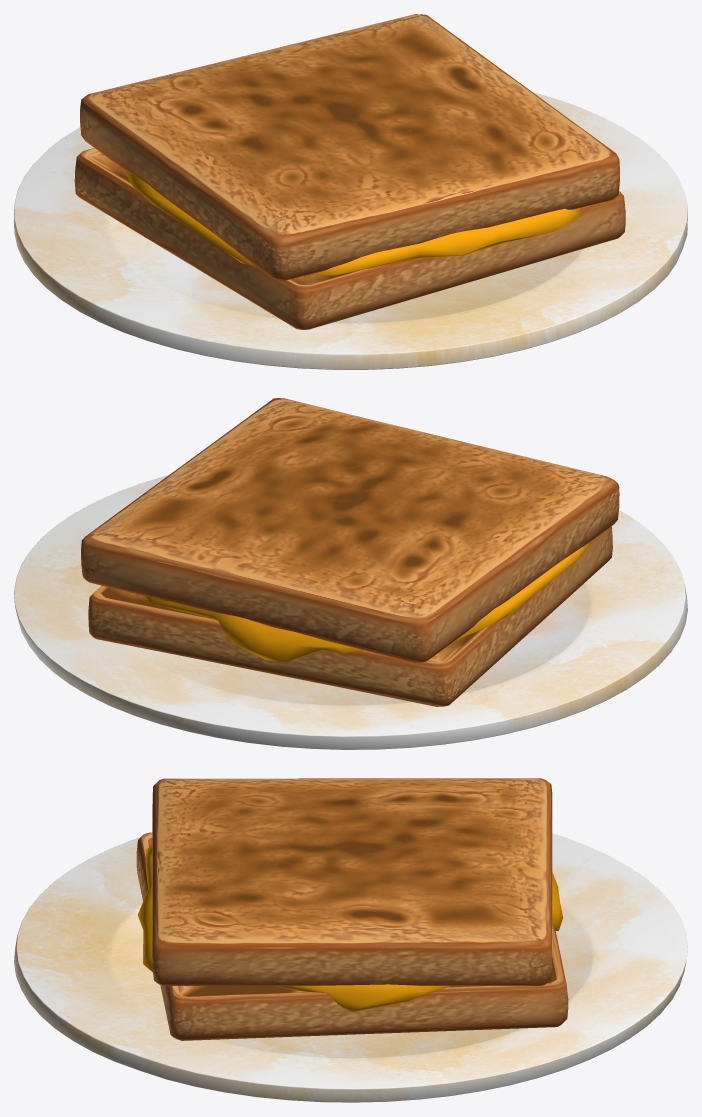
File: toast.glb
The picture shows the model from 3 angles, top to bottom: view 1: azimuth 30°, elevation 25°; view 2: azimuth 150°, elevation 25°; view 3: azimuth 270°, elevation 25°; orthographic projection.
Parts seen in each view (by area): view 1: low_BreadTop, low_Dish, low_BreadBottom, low_Cheese; view 2: low_BreadTop, low_Dish, low_BreadBottom, low_Cheese; view 3: low_BreadTop, low_Dish, low_BreadBottom, low_Cheese.
Part boxes in pixels (bbox=[...]): low_BreadTop: bbox=[80, 14, 619, 280]; low_Dish: bbox=[14, 92, 687, 369]; low_BreadBottom: bbox=[74, 148, 625, 329]; low_Cheese: bbox=[122, 168, 582, 275]; low_BreadTop: bbox=[81, 398, 619, 662]; low_Dish: bbox=[14, 474, 687, 749]; low_BreadBottom: bbox=[88, 526, 612, 706]; low_Cheese: bbox=[143, 542, 589, 662]; low_BreadTop: bbox=[152, 778, 552, 985]; low_Dish: bbox=[14, 833, 687, 1102]; low_BreadBottom: bbox=[136, 832, 568, 1040]; low_Cheese: bbox=[138, 846, 562, 1011].
Size of the model in its own units: 0.3043 by 0.0651 by 0.3048.
Materials: 3 (3 with a texture image).
